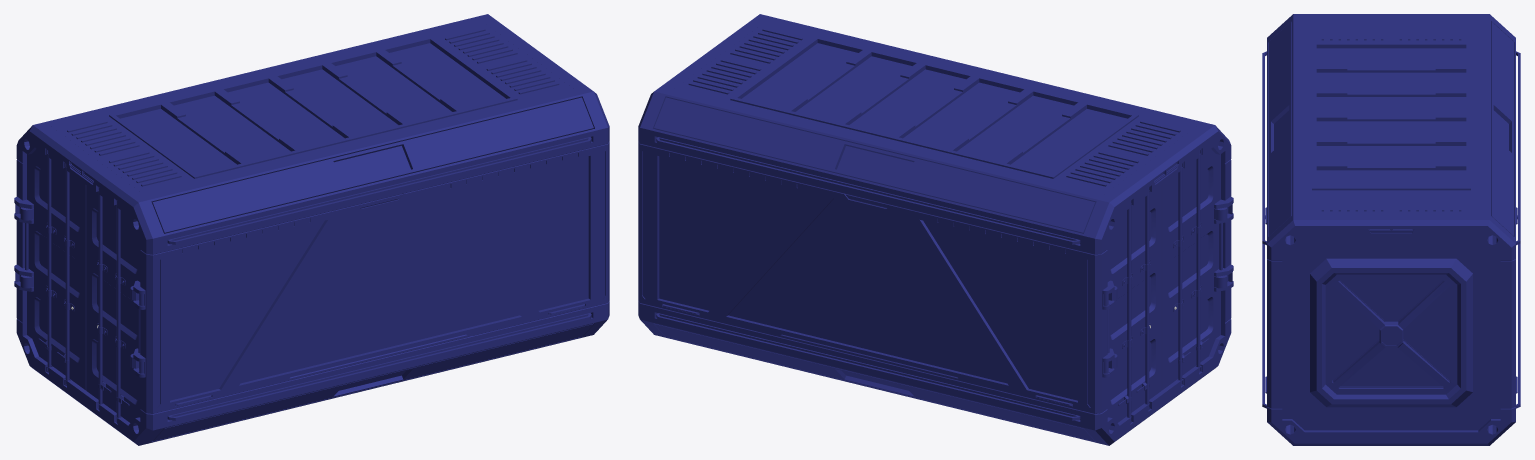
File: 01 uvw.fbx
The picture shows the model from 3 angles, left to right: view 1: azimuth 30°, elevation 25°; view 2: azimuth 150°, elevation 25°; view 3: azimuth 270°, elevation 25°; orthographic projection. The views are drawn at different scales.
Visible parts, largest first — view 1: Slice.014, Slice.002, Slice.006, Slice.001, Slice.007, Slice.005, Slice.023, Slice.010, Slice.012, Slice.008, Slice.011, Slice.013 (+7 smaller); view 2: Slice.014, Slice.002, Slice.006, Slice.005, Slice.007, Slice.001, Slice.023, Slice.012, Slice.011, Slice.008, Slice.010, Slice.013 (+7 smaller); view 3: Slice.003, Slice.002, Slice.006, Slice.007, Slice.023, Slice.014, Slice.008, Slice.009, Slice.010, Slice.011, Slice.013, Slice.012 (+1 smaller).
Boxes of the visible parts, bbox=[...] form: Slice.014: bbox=[16, 141, 609, 413]; Slice.002: bbox=[16, 14, 609, 445]; Slice.006: bbox=[51, 21, 574, 194]; Slice.001: bbox=[27, 149, 86, 390]; Slice.007: bbox=[109, 36, 517, 178]; Slice.005: bbox=[86, 185, 140, 422]; Slice.023: bbox=[34, 18, 586, 439]; Slice.010: bbox=[282, 69, 398, 134]; Slice.012: bbox=[389, 43, 505, 108]; Slice.008: bbox=[174, 95, 290, 161]; Slice.011: bbox=[228, 82, 344, 148]; Slice.013: bbox=[336, 56, 451, 121]; Slice.014: bbox=[638, 141, 1231, 413]; Slice.002: bbox=[638, 14, 1231, 445]; Slice.006: bbox=[673, 21, 1196, 194]; Slice.005: bbox=[1161, 149, 1220, 390]; Slice.007: bbox=[730, 36, 1138, 178]; Slice.001: bbox=[1107, 185, 1161, 422]; Slice.023: bbox=[661, 18, 1213, 439]; Slice.012: bbox=[742, 43, 858, 108]; Slice.011: bbox=[903, 82, 1019, 148]; Slice.008: bbox=[957, 95, 1073, 161]; Slice.010: bbox=[849, 69, 965, 134]; Slice.013: bbox=[796, 56, 911, 121]; Slice.003: bbox=[1282, 237, 1500, 430]; Slice.002: bbox=[1262, 14, 1520, 445]; Slice.006: bbox=[1304, 19, 1478, 214]; Slice.007: bbox=[1312, 42, 1470, 190]; Slice.023: bbox=[1304, 14, 1478, 445]; Slice.014: bbox=[1265, 207, 1517, 408]; Slice.008: bbox=[1316, 72, 1466, 90]; Slice.009: bbox=[1316, 48, 1466, 66]; Slice.010: bbox=[1316, 121, 1466, 139]; Slice.011: bbox=[1316, 97, 1466, 115]; Slice.013: bbox=[1316, 146, 1466, 163]; Slice.012: bbox=[1316, 170, 1466, 186].
Bounding box in the file's own units: 407 × 201 × 207.
